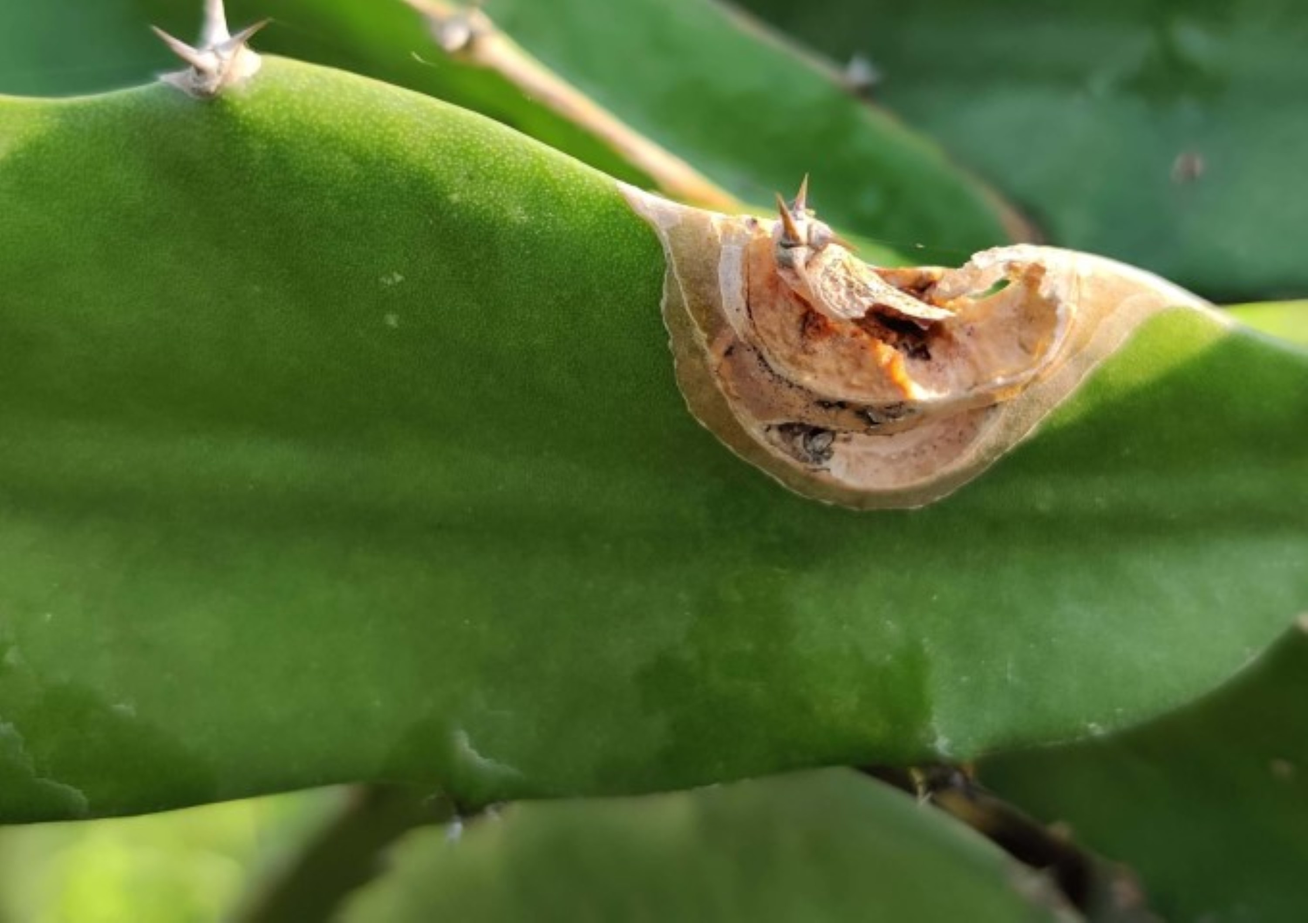stemcanker: (612, 179, 1179, 518)
